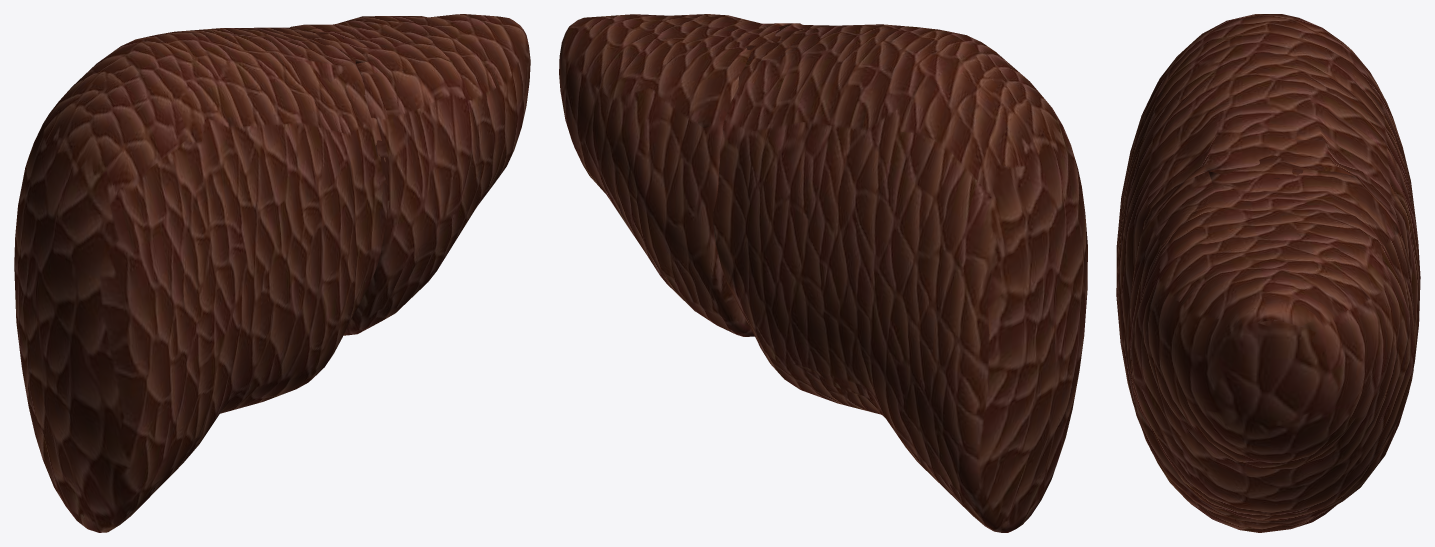
The model's file is liver.gltf.
3 views of the same model, side by side, from view 1: azimuth 30°, elevation 25°; view 2: azimuth 150°, elevation 25°; view 3: azimuth 270°, elevation 25° (orthographic). The views are drawn at different scales.
Visible parts, largest first — view 1: Cube; view 2: Cube; view 3: Cube.
Part boxes in pixels (x1,y1,x2,y2): Cube: [14, 14, 530, 532]; Cube: [559, 14, 1087, 532]; Cube: [1116, 14, 1420, 532].
Size of the model in its own units: 2.04 by 1.88 by 0.9305.
1 material, 1 textured.
